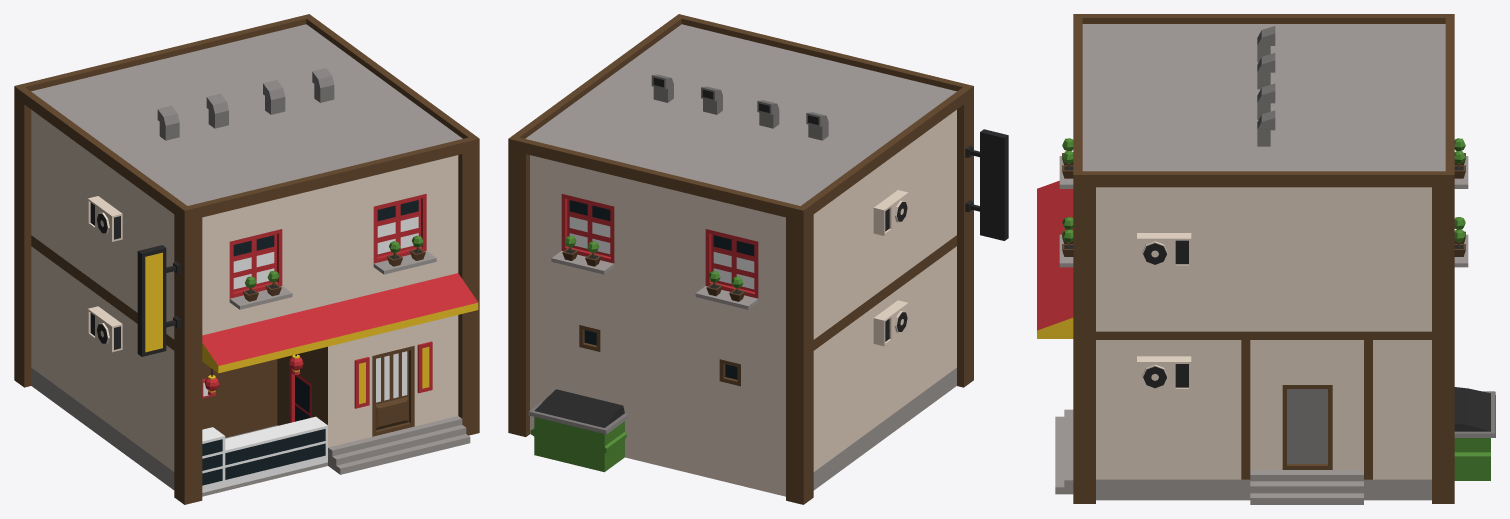
Rendered from building-shop-china.glb.
The picture shows the model from 3 angles, left to right: view 1: azimuth 30°, elevation 25°; view 2: azimuth 150°, elevation 25°; view 3: azimuth 270°, elevation 25°; orthographic projection. The views are drawn at different scales.
Parts seen in each view (by area): view 1: building-shop-china; view 2: building-shop-china; view 3: building-shop-china.
Boxes of the visible parts, x1,y1,x2,y2 form: building-shop-china: (14,14,479,504); building-shop-china: (508,14,1008,504); building-shop-china: (1037,14,1495,504).
Bounding box in the file's own units: 9.65 × 8.55 × 10.11.
Materials: 1 (1 with a texture image).
